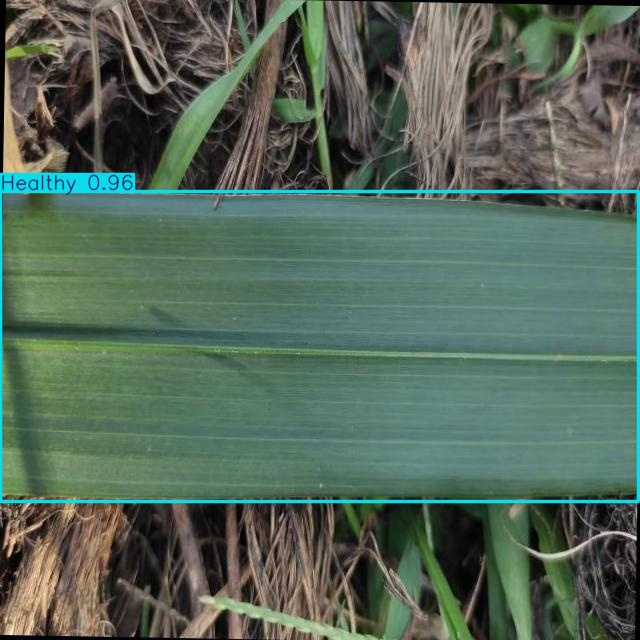Healthy: (0, 192, 638, 501)
